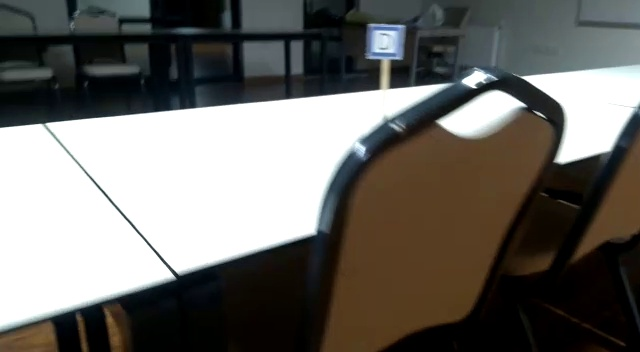durak: (367, 25, 403, 59)
